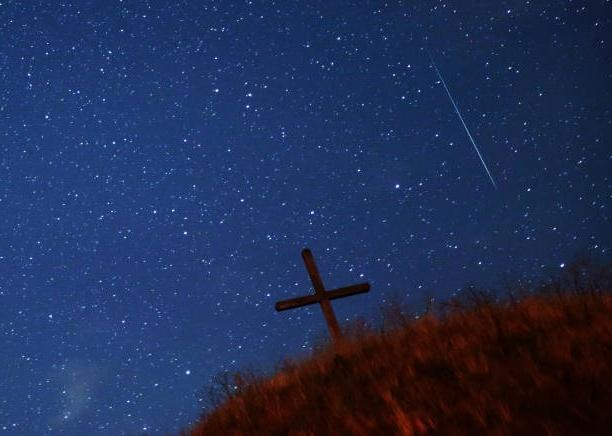meteorite: (427, 45, 500, 192)
